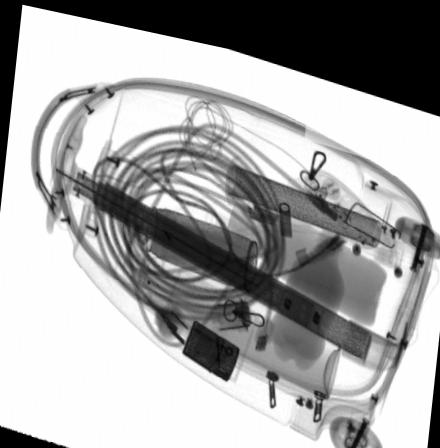Lighter: (182, 311, 240, 372)
Sprayer: (164, 258, 340, 386)
